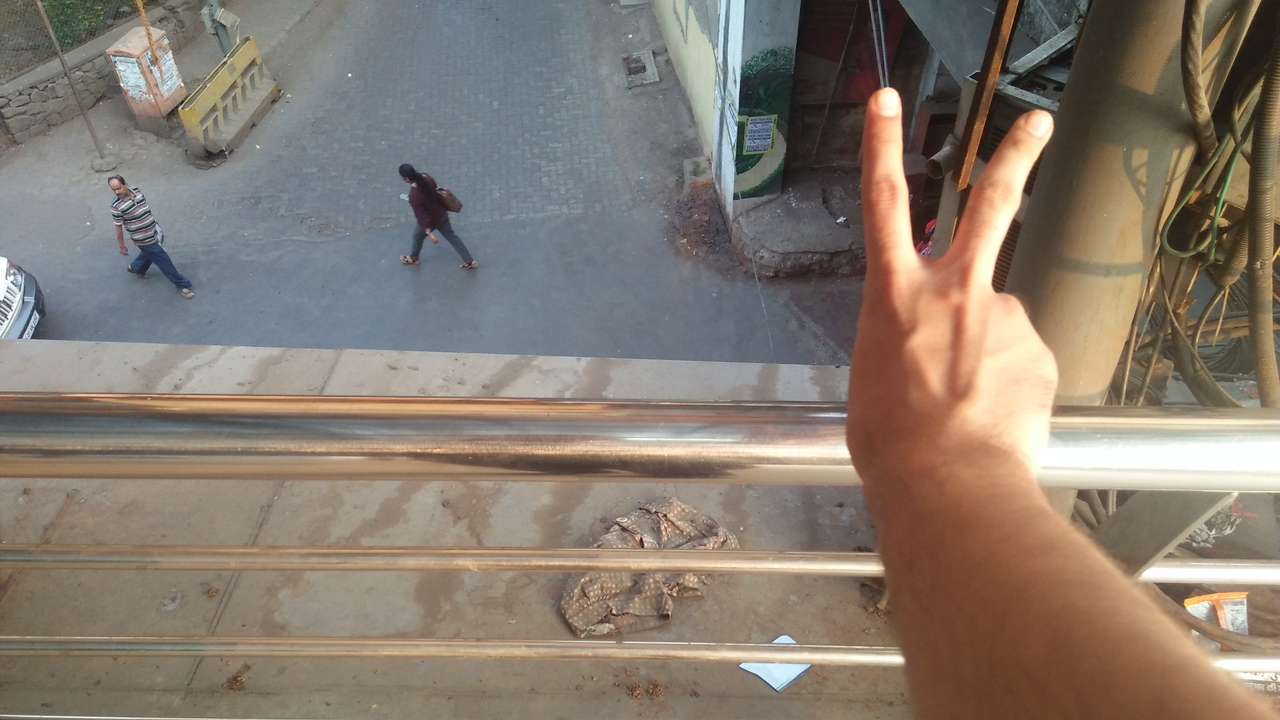fingertip: (1000, 98, 1060, 152), (862, 80, 912, 126)
